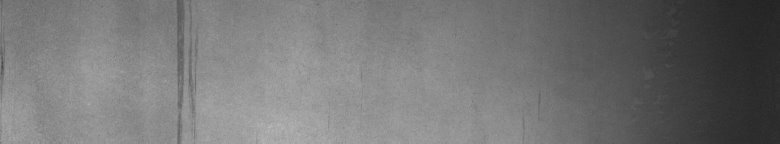hd: (173, 4, 197, 136)
